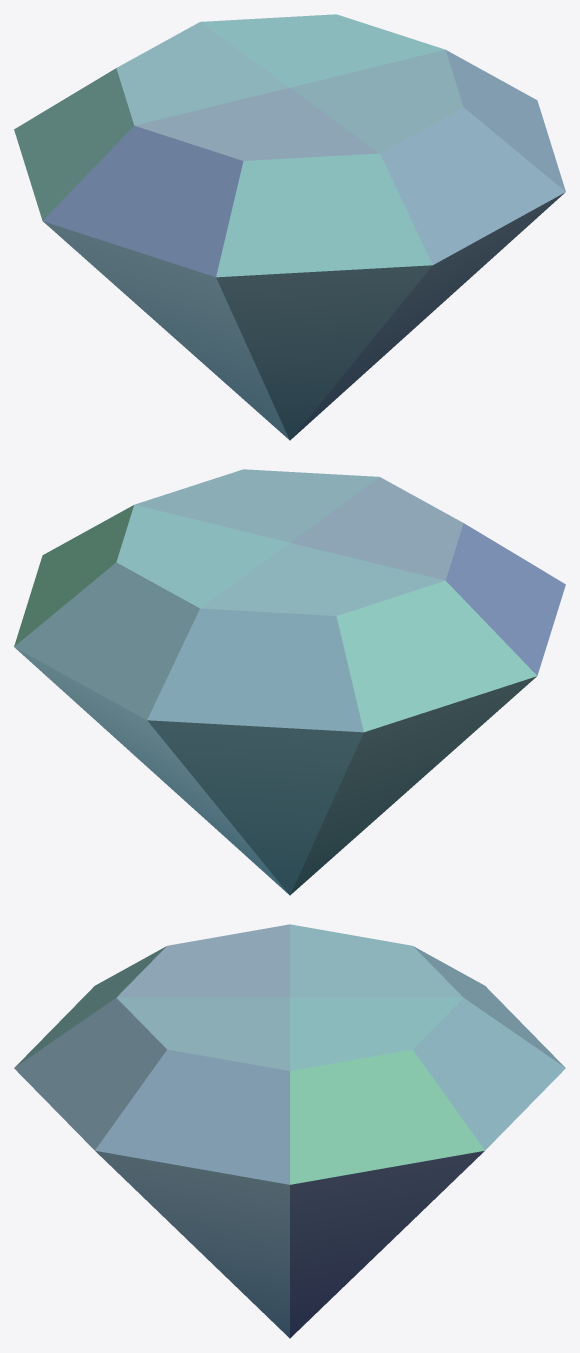
File: geology-crystals-diamond_v7.fbx
3 renders of one model, top to bottom at view 1: azimuth 30°, elevation 25°; view 2: azimuth 150°, elevation 25°; view 3: azimuth 270°, elevation 25°, orthographic. The views are drawn at different scales.
Visible parts, largest first — view 1: Diamond_v7; view 2: Diamond_v7; view 3: Diamond_v7.
Boxes of the visible parts, <box> form: Diamond_v7: <box>14,14,565,440</box>; Diamond_v7: <box>14,469,565,895</box>; Diamond_v7: <box>14,924,565,1338</box>.
Bounding box in the file's own units: 0.6694 × 0.4563 × 0.6694.
